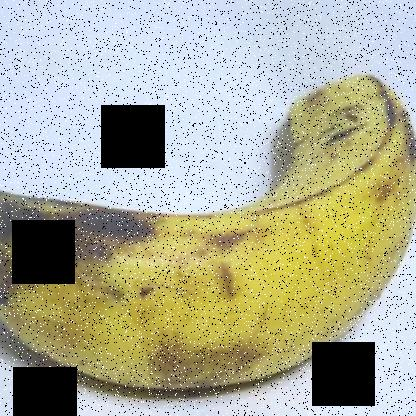ripe: (1, 54, 415, 415)
